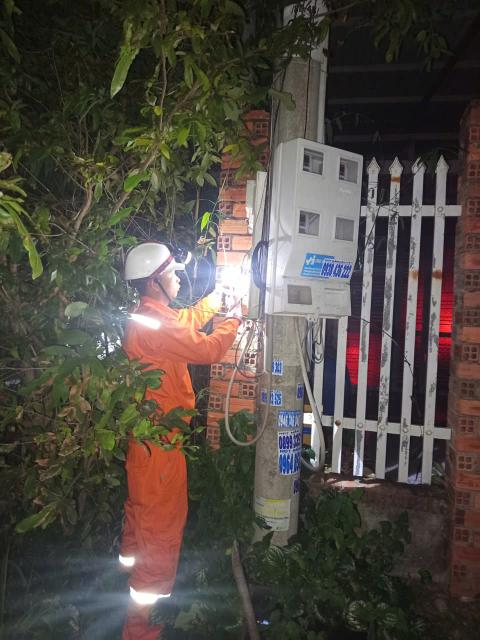gloves: (224, 280, 243, 326)
helmet: (112, 236, 189, 285)
